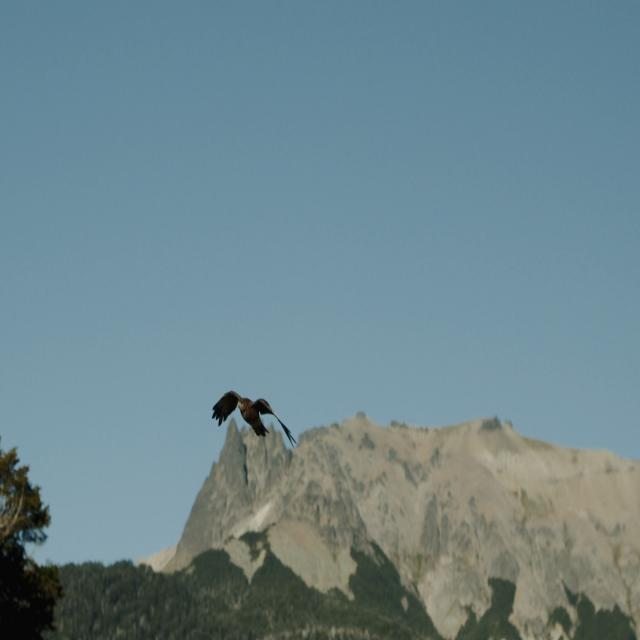bird: (207, 375, 295, 465)
